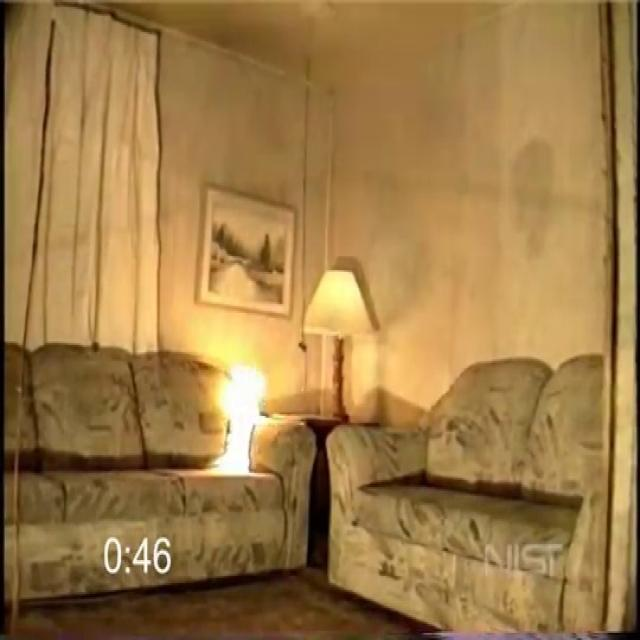Fire: (196, 332, 278, 478)
